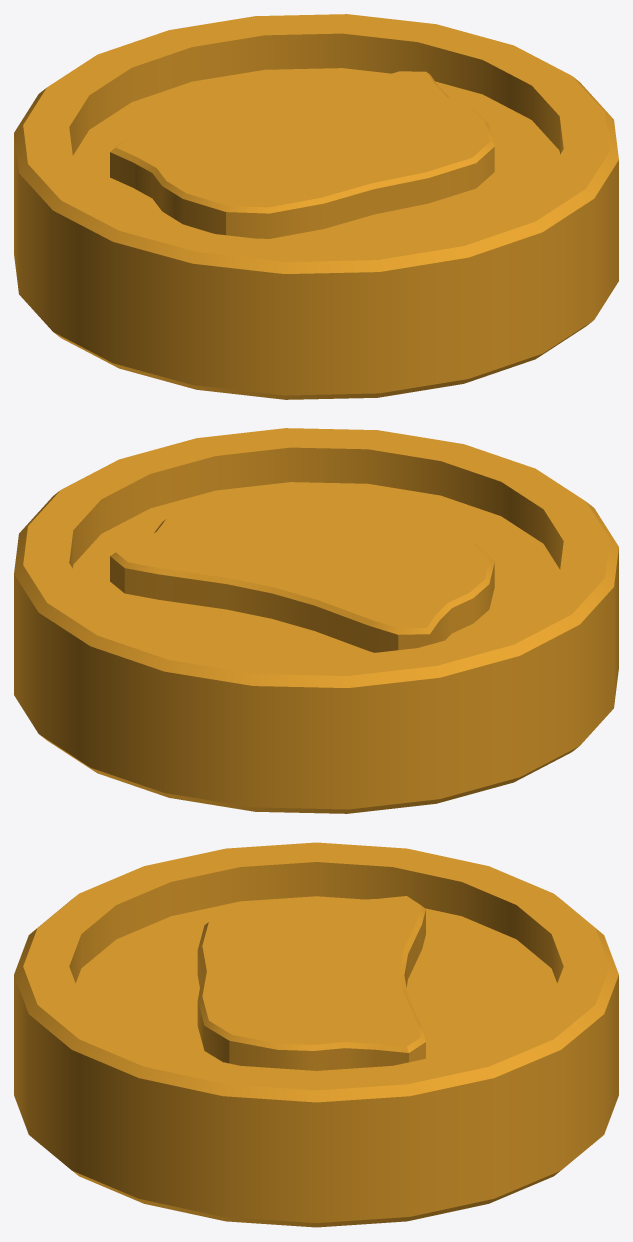
Rendered from CS 4482 App 3 Coin Model.fbx.
3 views of the same model, one above another, from view 1: azimuth 30°, elevation 25°; view 2: azimuth 150°, elevation 25°; view 3: azimuth 270°, elevation 25° (orthographic).
Visible parts, largest first — view 1: Cylinder; view 2: Cylinder; view 3: Cylinder.
Part boxes in pixels (x1,y1,x2,y2): Cylinder: (14,14,618,399); Cylinder: (14,428,618,813); Cylinder: (14,842,618,1227).
Bounding box in the file's own units: 140 × 35 × 140.
